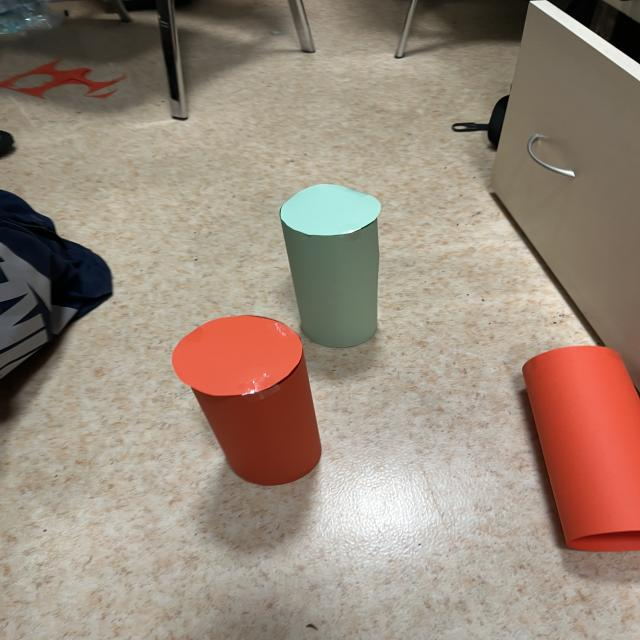meta: (280, 184, 380, 347)
przeszkoda: (172, 316, 321, 485), (523, 346, 640, 550)
